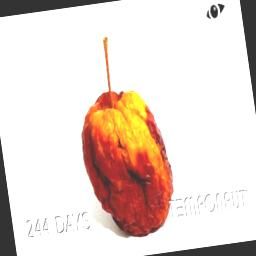Apple Rotten: (60, 11, 192, 242)
